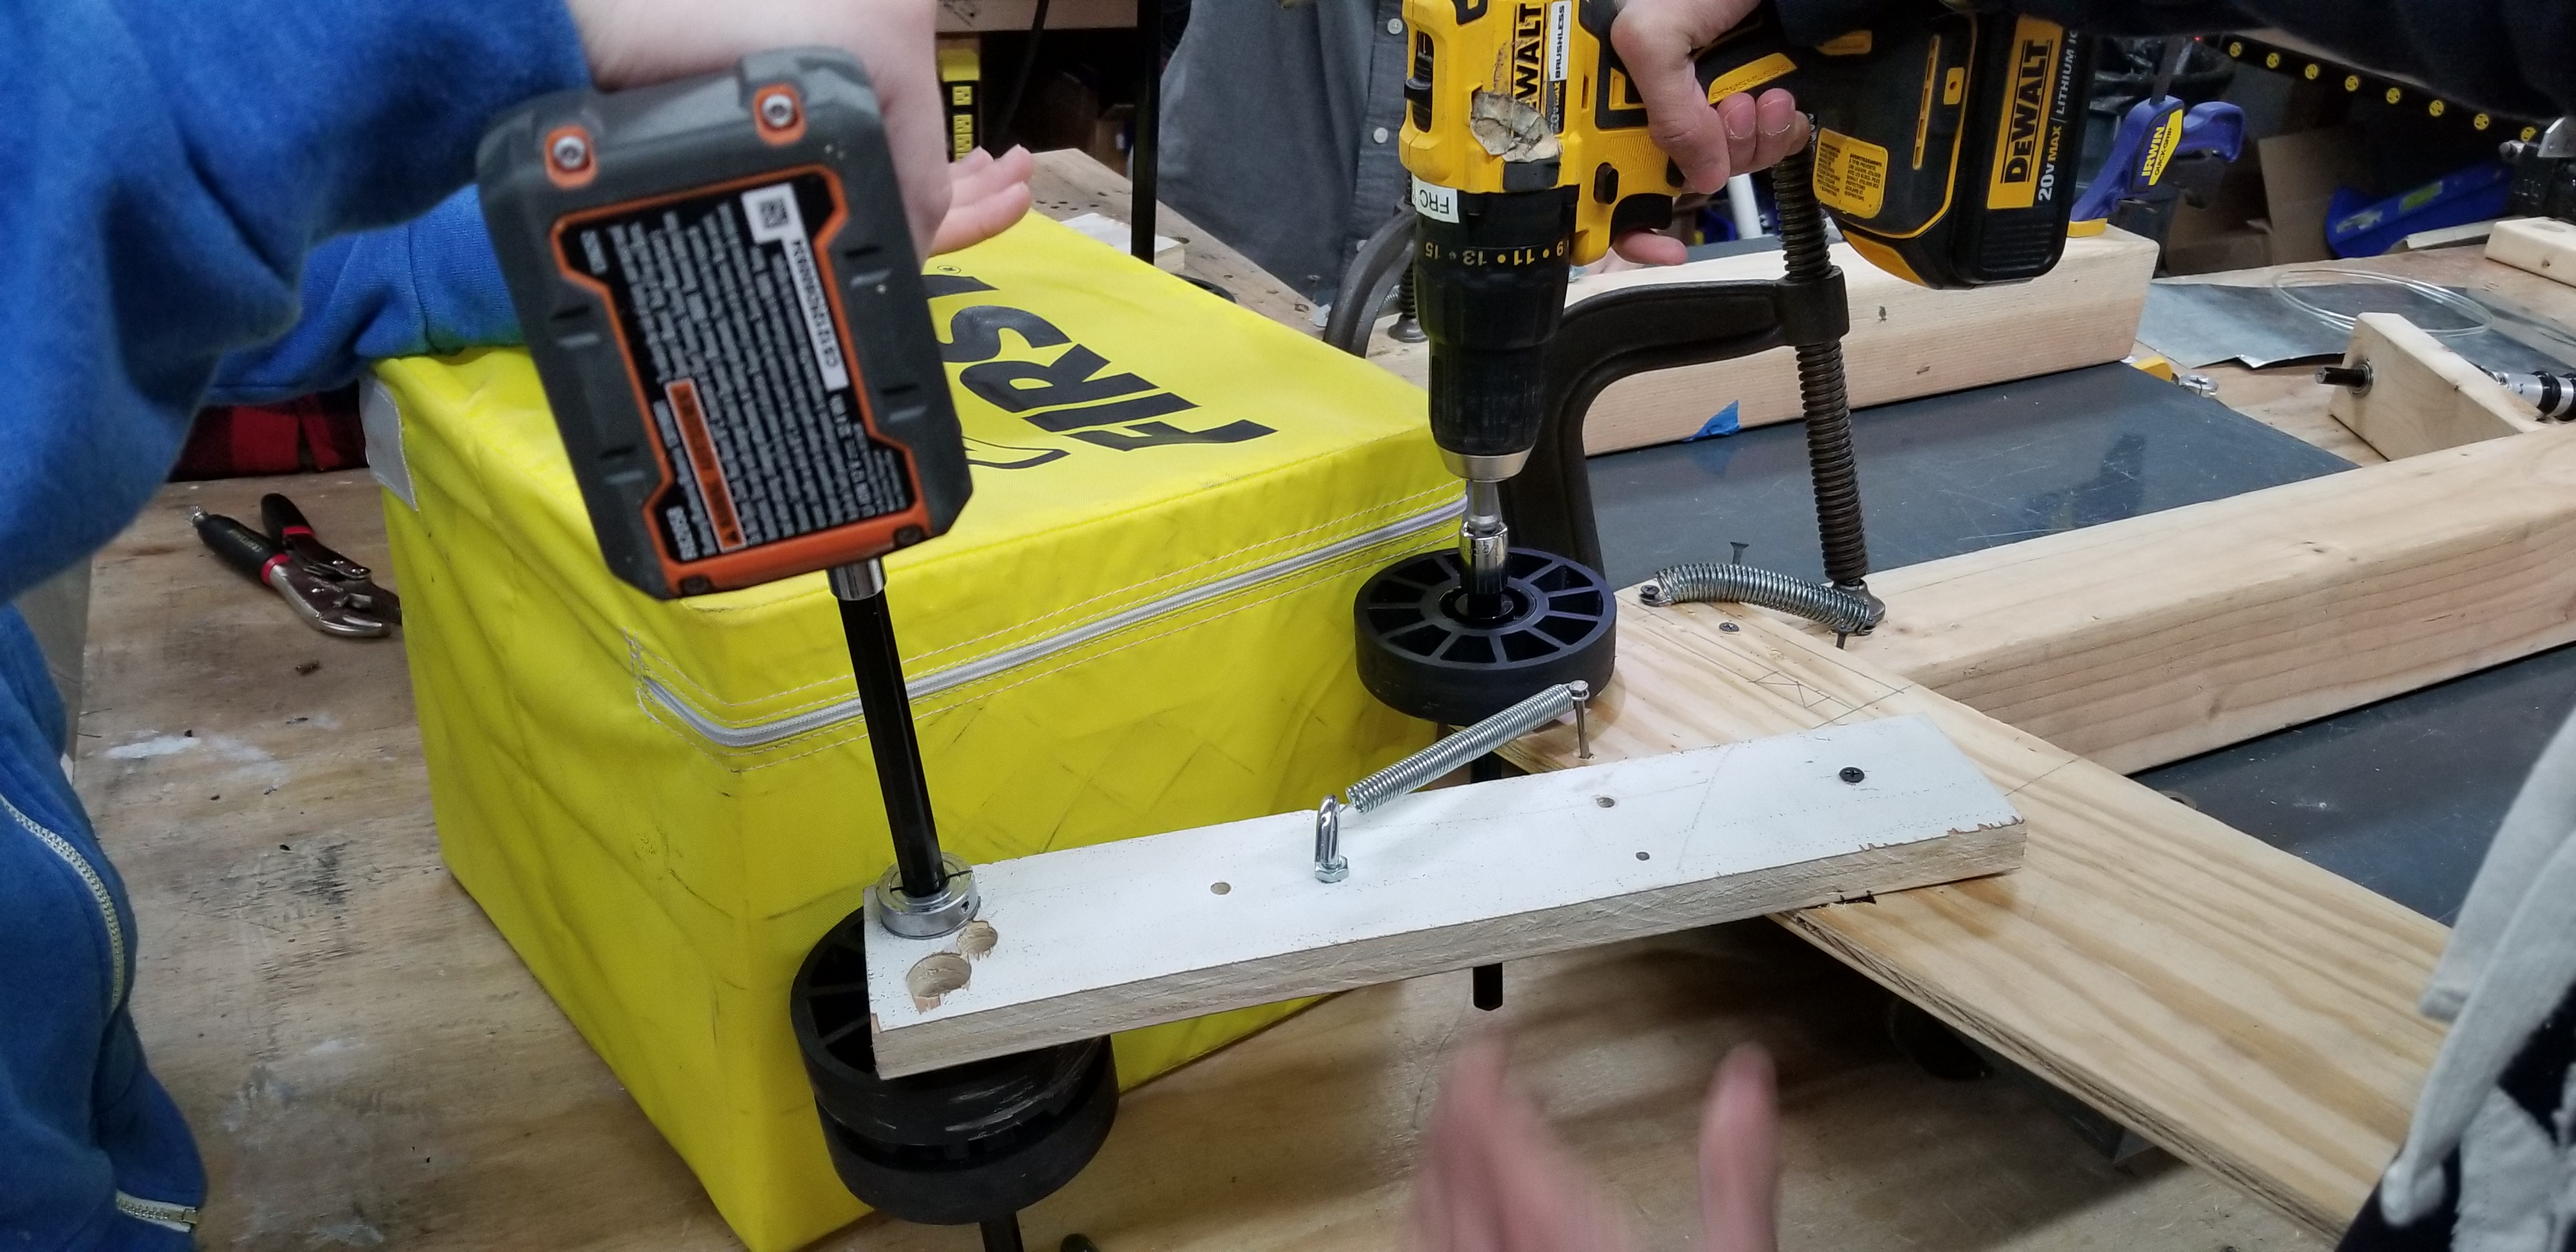cube: (345, 189, 1502, 1252)
